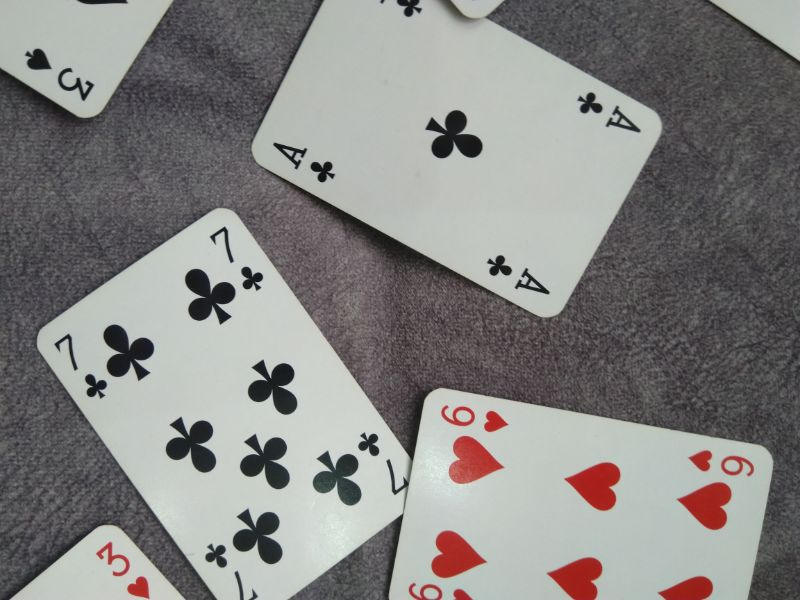3h: (94, 537, 151, 600)
3s: (21, 42, 97, 102)
6h: (439, 400, 510, 434), (685, 448, 757, 479)
7c: (207, 224, 265, 294), (52, 330, 109, 401), (355, 427, 410, 497), (204, 539, 259, 600)
Ac: (483, 250, 553, 298), (573, 89, 644, 135), (269, 138, 338, 185)
